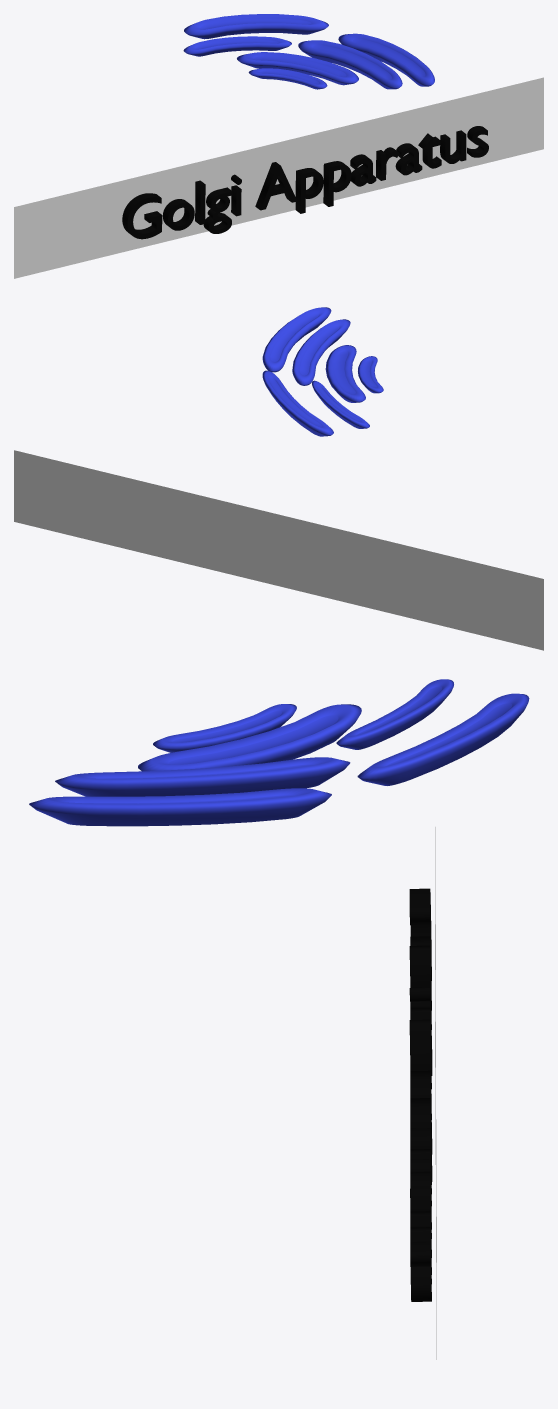
File: golgi1.gltf
3 views of the same model, one above another, from view 1: azimuth 30°, elevation 25°; view 2: azimuth 150°, elevation 25°; view 3: azimuth 270°, elevation 25° (orthographic). The views are drawn at different scales.
Parts seen in each view (by area): view 1: Plane.036, Red_Top.001, Text.021; view 2: Plane.036, Red_Top.001; view 3: Red_Top.001, Text.021.
Boxes of the visible parts, x1,y1,x2,y2 form: Plane.036: (14,77,543,278); Red_Top.001: (183,14,434,89); Text.021: (122,126,488,239); Plane.036: (14,450,543,650); Red_Top.001: (262,307,383,436); Red_Top.001: (29,679,529,826); Text.021: (409,888,432,1301).
Size of the model in its own units: 1.88 by 0.6703 by 0.7686.
